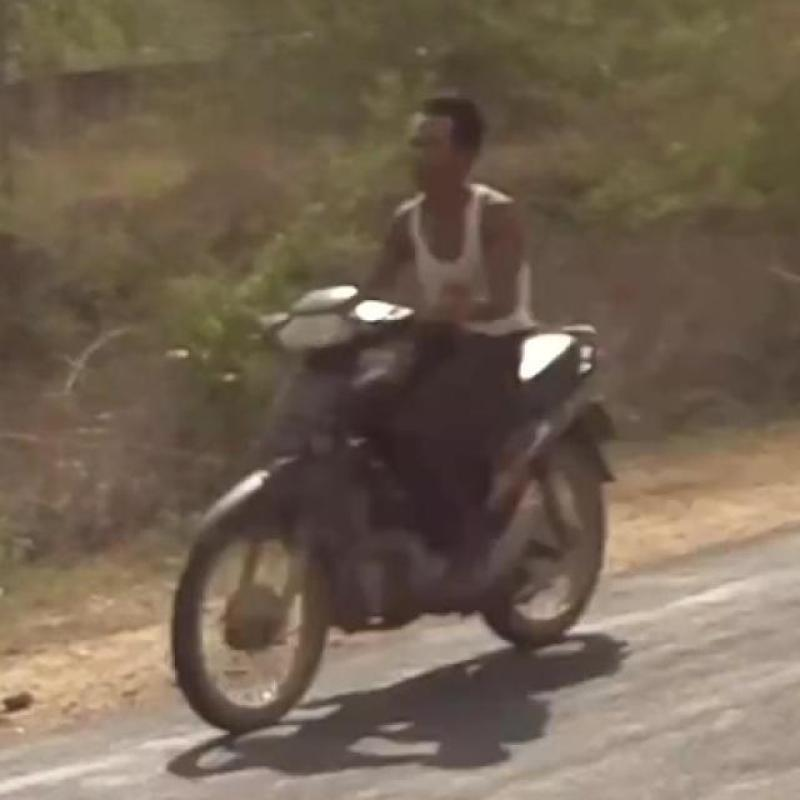nohelmet: (393, 77, 509, 221)
